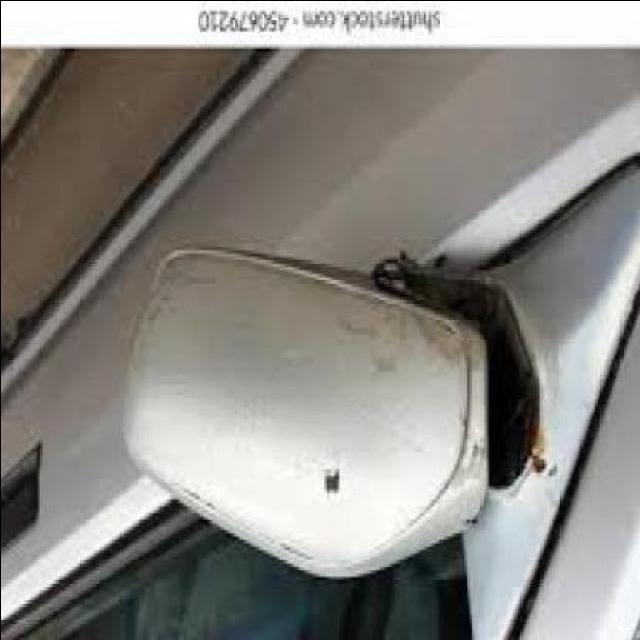Sidemirror-Damage: (353, 248, 554, 535)
